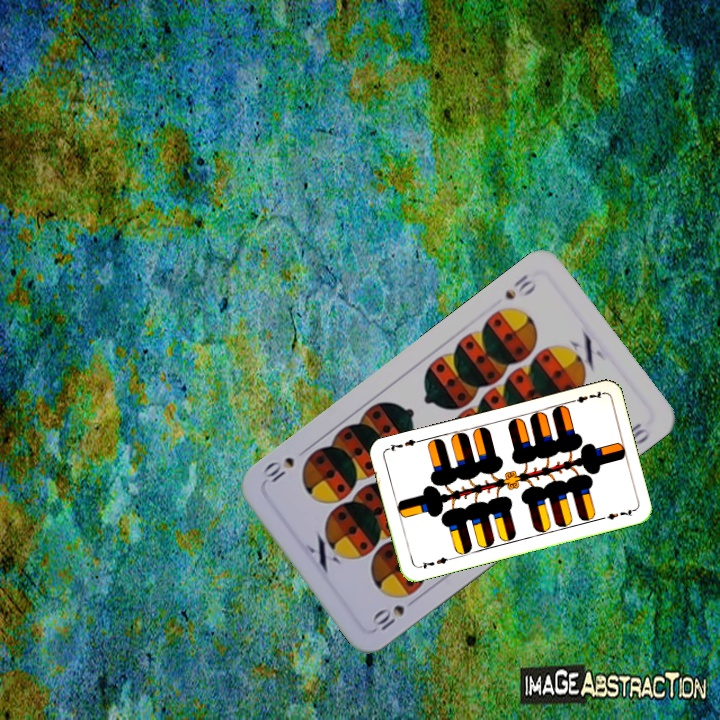E7: (414, 553, 454, 572), (566, 387, 606, 406)
S10: (368, 600, 408, 634), (500, 269, 539, 303)
